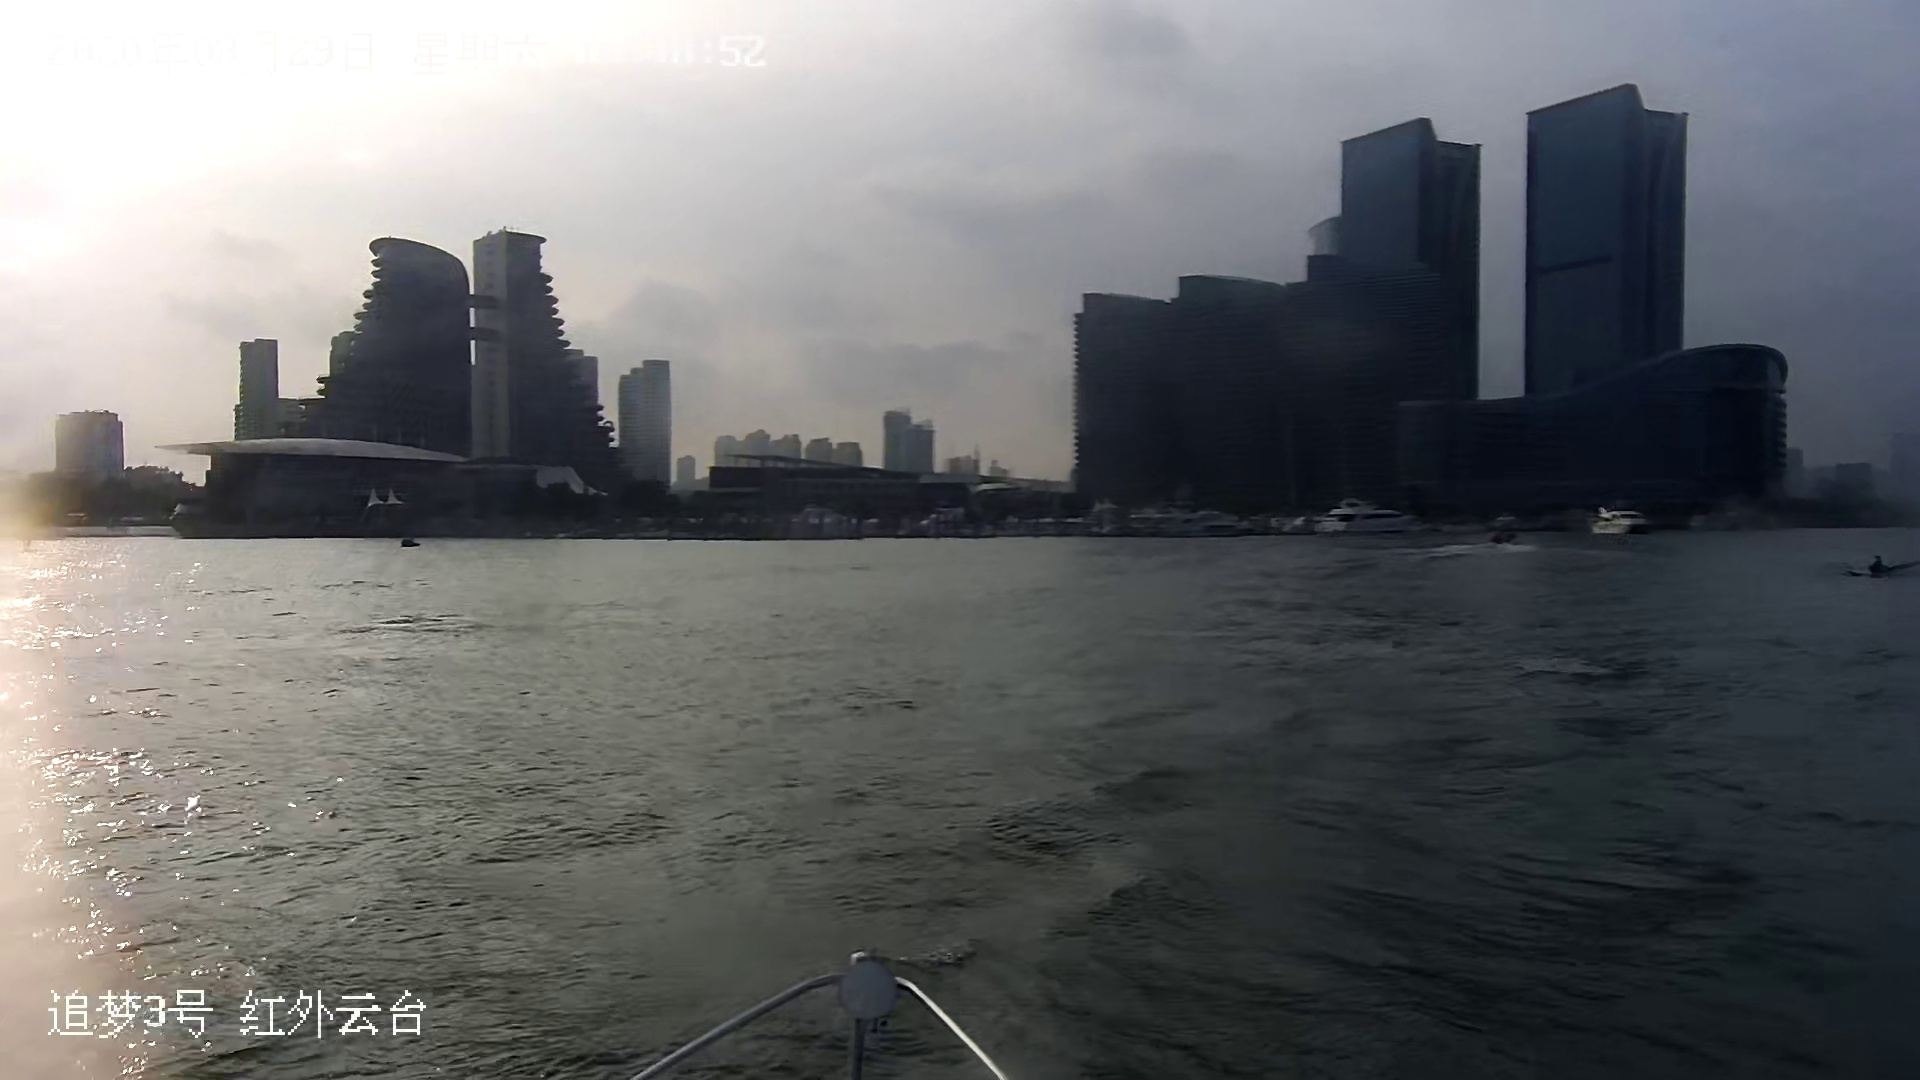barrier: (1317, 498, 1424, 545), (1592, 498, 1651, 530)
coast: (15, 92, 1920, 545)
